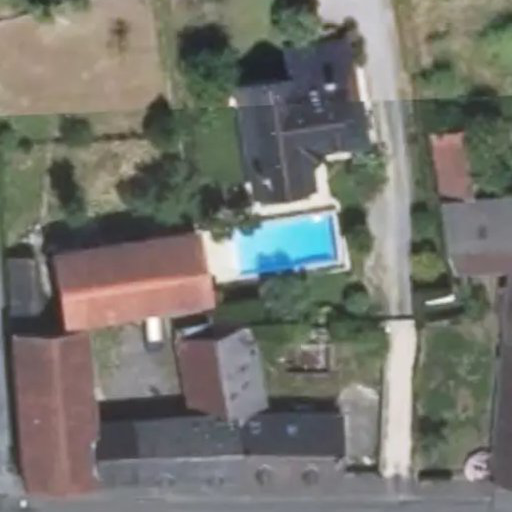pool: (202, 225, 309, 258)
